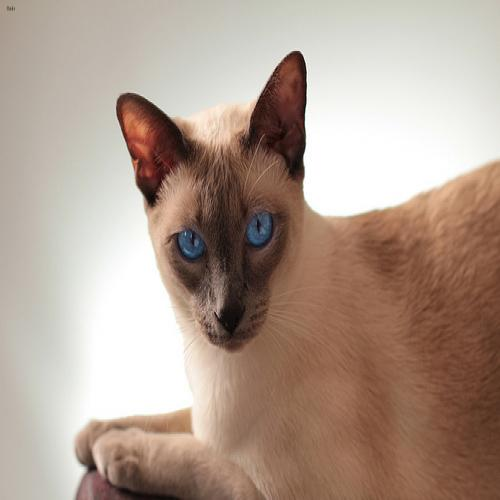siamese: (105, 46, 322, 361)
